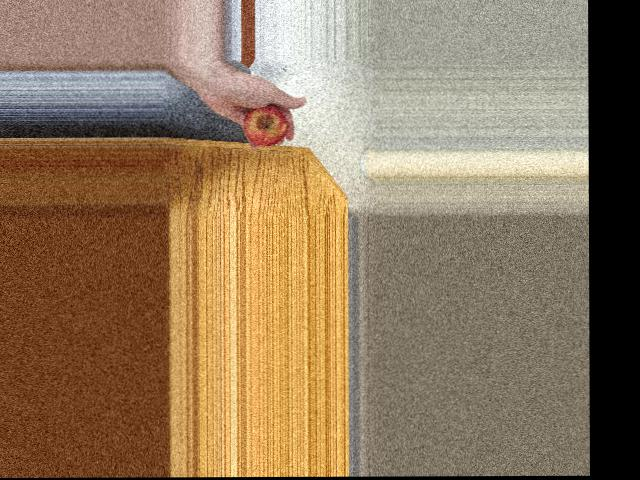apple: (235, 102, 291, 146)
